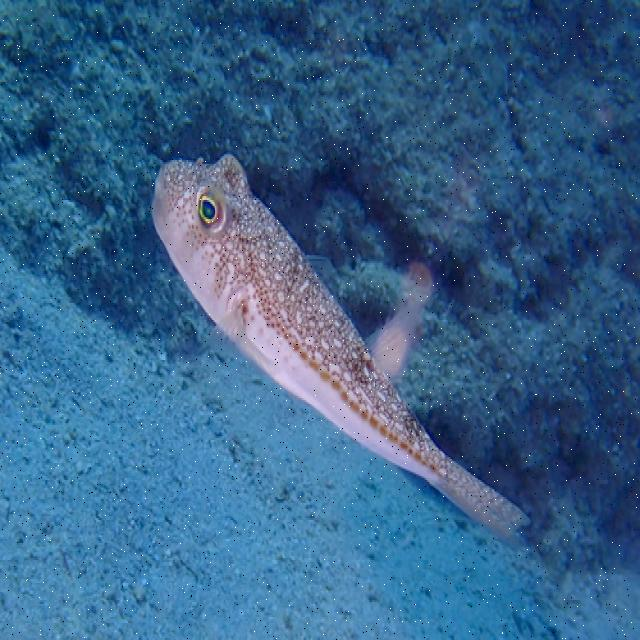Balik: (153, 155, 528, 540)
